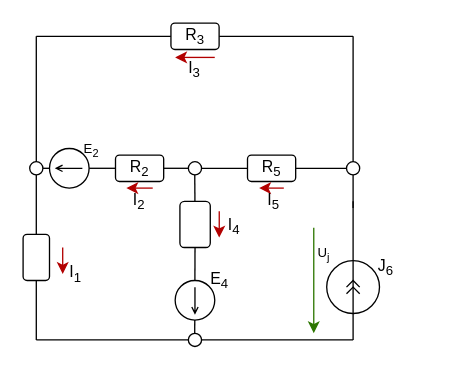
Some shapes in this 449 by 370 pixel diagram are drawn without their labels. Here are the shapes that lost their labels. From the top down, the centre of each, then its label:
At (194,224): "R 4".
At (36,256): "R 1".
